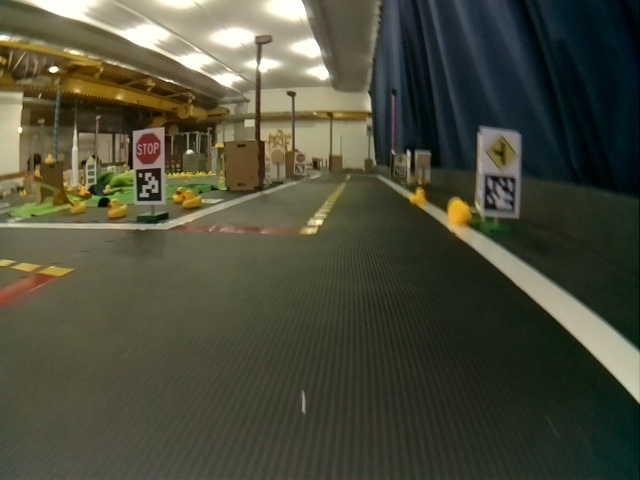Duckie: (448, 198, 470, 225), (108, 198, 127, 218), (410, 187, 427, 207), (183, 191, 202, 207), (71, 199, 85, 212), (173, 186, 182, 202), (103, 185, 112, 194)
Intersection sign: (486, 135, 517, 168)
QR code: (485, 174, 515, 211), (136, 168, 162, 201), (395, 166, 404, 176), (295, 164, 304, 173)
Stop sign: (135, 132, 162, 164)
